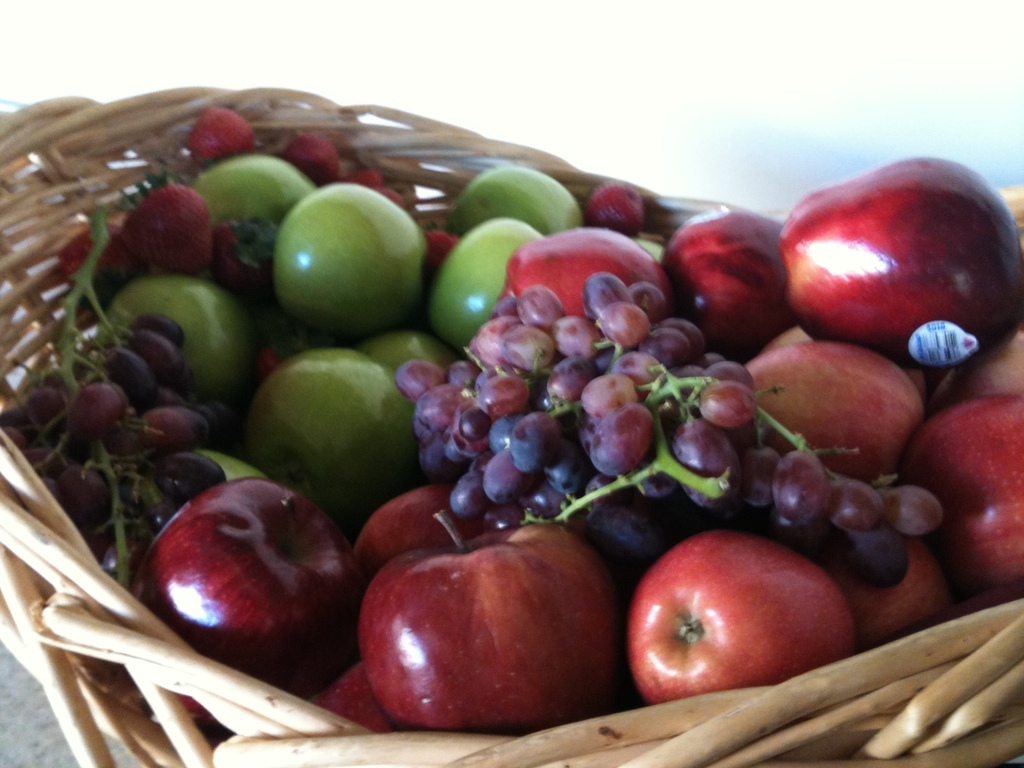Apple: (88, 151, 1022, 731), (627, 541, 832, 706)
